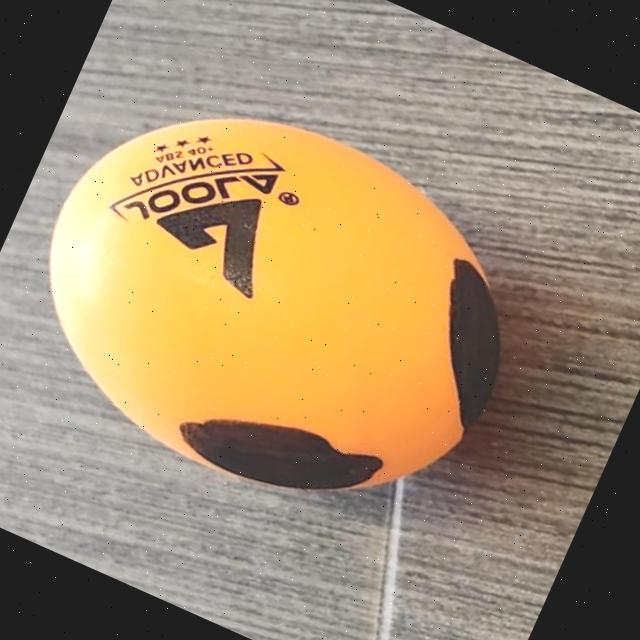ping-pong-ball: (0, 31, 587, 586)
